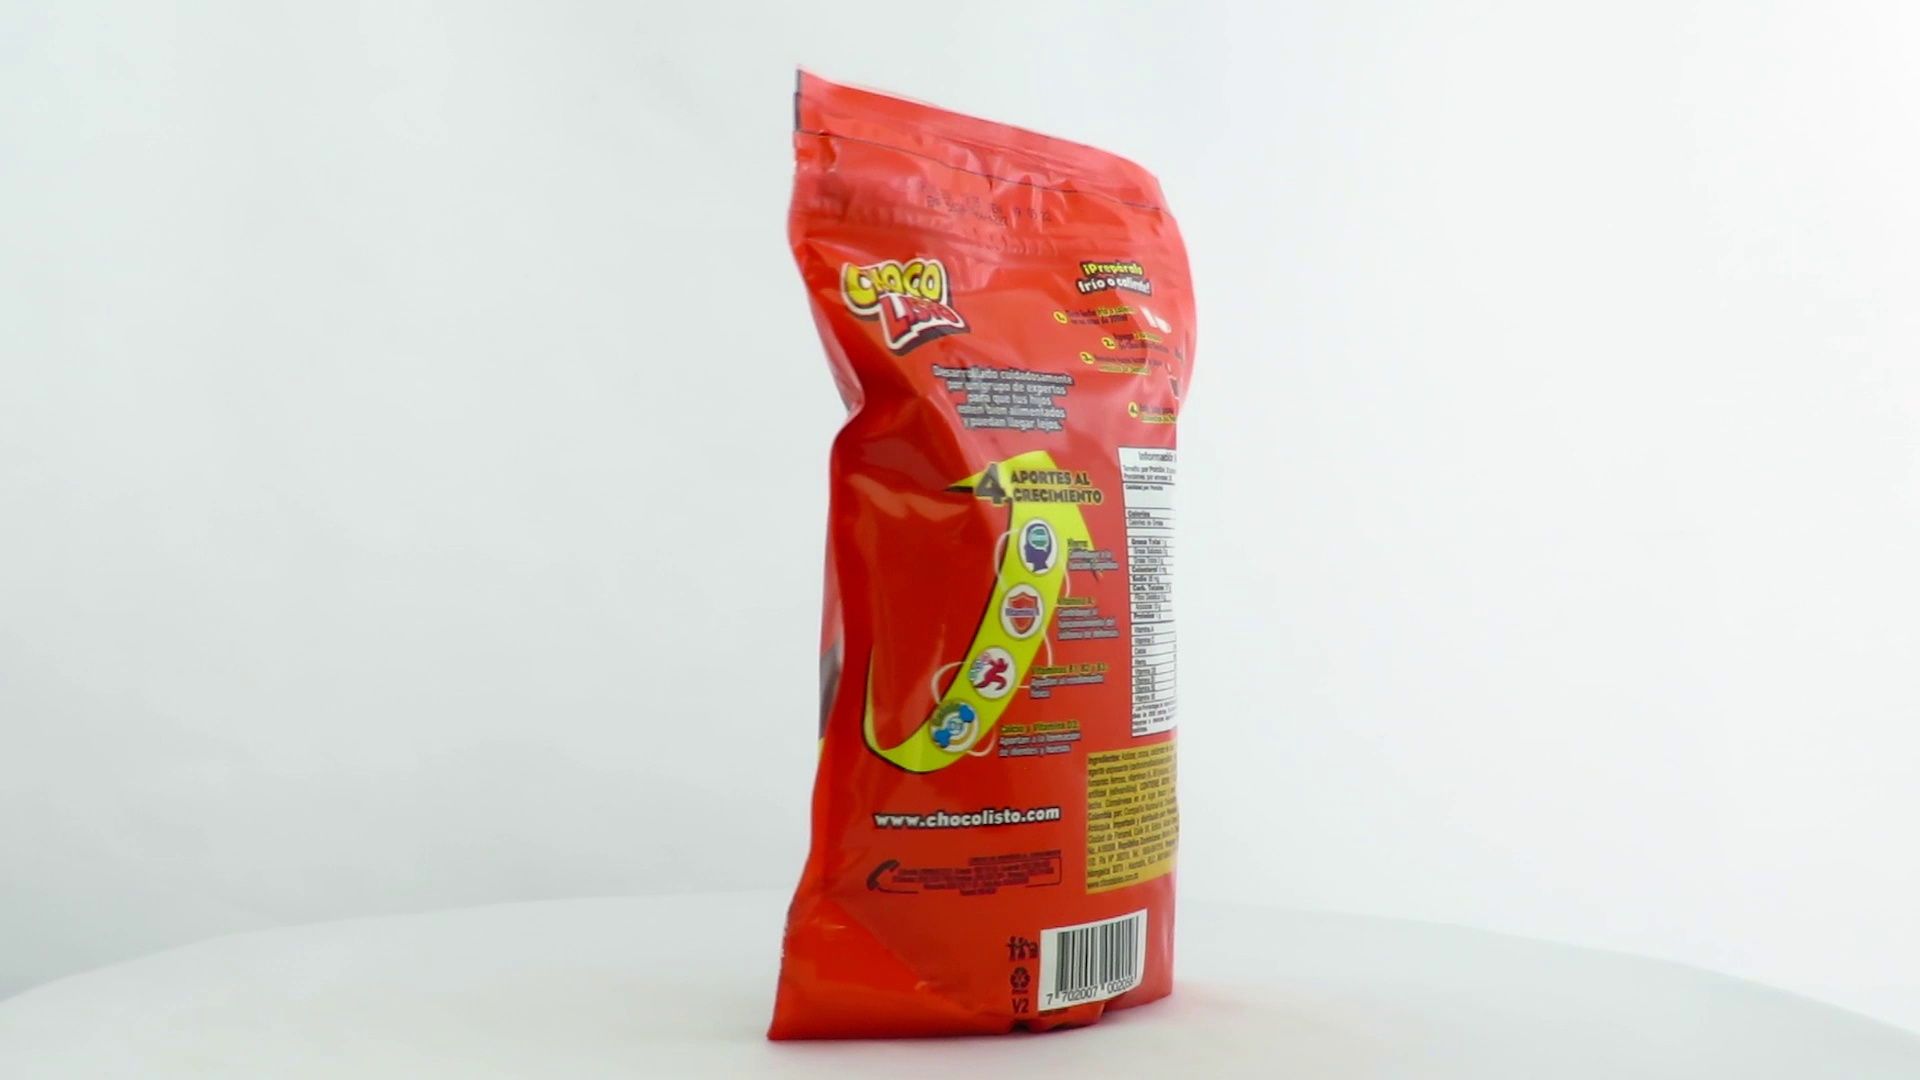COL0170103DYP40000: (761, 65, 1203, 1048)
